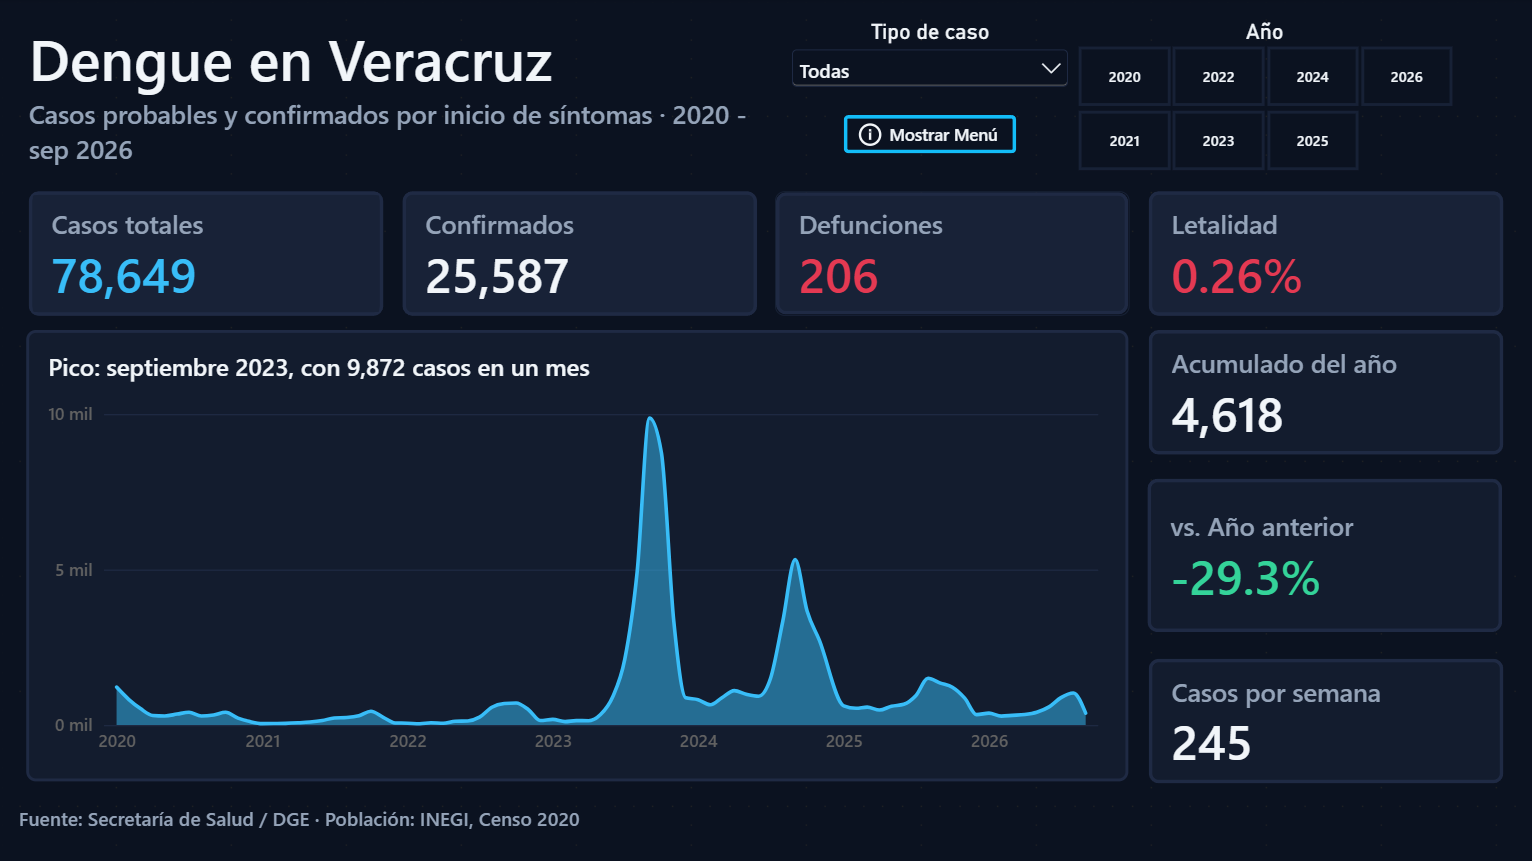

Layout of this report page (visuals, bound fields, positions):
{"tool":"powerbi","page":{"name":"Panorama Estatal","canvas":[1280,720],"ordinal":1},"visuals":[{"type":"cardVisual","fields":{"Data":["_Measures.Casos"]},"box":[24,160.1,296,104],"z":0},{"type":"cardVisual","fields":{"Data":["_Measures.Confirmados"]},"box":[335.6,160.1,296,104],"z":1000},{"type":"cardVisual","fields":{"Data":["_Measures.Defunciones"]},"box":[646.6,160.1,296,104],"z":2000},{"type":"cardVisual","fields":{"Data":["_Measures.Letalidad %"]},"box":[958.6,160.1,296,104],"z":3000},{"type":"lineChart","fields":{"Category":["dim_fecha.Date.Variation.Jerarquía de fechas.Año","dim_fecha.Date.Variation.Jerarquía de fechas.Mes"],"Y":["_Measures.Casos"]},"box":[22,275,920,377],"z":4000},{"type":"slicer","title":"Año","fields":{"Values":["dim_fecha.Date.Variation.Jerarquía de fechas.Año"]},"box":[880,16,352,128],"z":5000},{"type":"slicer","title":"Tipo de caso","fields":{"Values":["dim_estatus.descripcion"]},"box":[656,16,240,64],"z":6000},{"type":"cardVisual","fields":{"Data":["_Measures.Var YTD vs Año Previo"]},"box":[958,400,296,128],"z":7000},{"type":"cardVisual","fields":{"Data":["_Measures.Casos Acumulados YTD"]},"box":[958.6,275.1,296,104],"z":8000},{"type":"textbox","box":[24,16,610,70],"z":9000},{"type":"textbox","box":[24,80,610,78],"z":10000},{"type":"cardVisual","title":"Casos por semana","fields":{"Data":["_Measures.Promedio Móvil 4 Sem"]},"box":[958.6,550,296,104],"z":11000},{"type":"textbox","box":[16,672,864,32],"z":12000},{"type":"actionButton","title":"Menú","box":[704,96,144,32],"z":13000}]}

Visuals, with their boxes in screenshot pixels (x1, y1, x2, y2), scaled from the page's 1280x720 canvas onto the 1532x861 screenshot:
cardVisual - _Measures.Casos: l=29, t=191, r=383, b=316
cardVisual - _Measures.Confirmados: l=402, t=191, r=756, b=316
cardVisual - _Measures.Defunciones: l=774, t=191, r=1128, b=316
cardVisual - _Measures.Letalidad %: l=1147, t=191, r=1502, b=316
lineChart - dim_fecha.Date.Variation.Jerarquía de fechas.Año x dim_fecha.Date.Variation.Jerarquía de fechas.Mes: l=26, t=329, r=1127, b=780
"Año" slicer: l=1053, t=19, r=1475, b=172
"Tipo de caso" slicer: l=785, t=19, r=1072, b=96
cardVisual - _Measures.Var YTD vs Año Previo: l=1147, t=478, r=1501, b=631
cardVisual - _Measures.Casos Acumulados YTD: l=1147, t=329, r=1502, b=453
textbox: l=29, t=19, r=759, b=103
textbox: l=29, t=96, r=759, b=189
"Casos por semana" cardVisual: l=1147, t=658, r=1502, b=782
textbox: l=19, t=804, r=1053, b=842
"Menú" actionButton: l=843, t=115, r=1015, b=153
